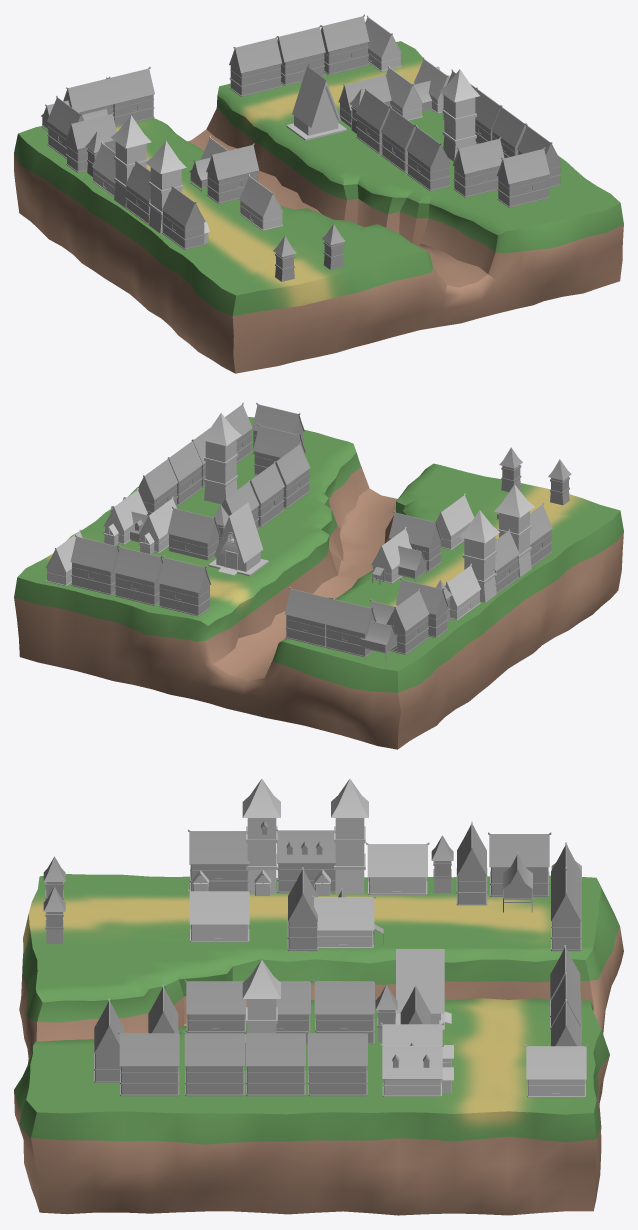
File: stage02.fbx
3 renders of one model, top to bottom at view 1: azimuth 30°, elevation 25°; view 2: azimuth 150°, elevation 25°; view 3: azimuth 270°, elevation 25°, orthographic. The views are drawn at different scales.
Parts seen in each view (by area): view 1: pPlane1, Pivot005, pCube25, pCube29, pCube6, pCube24, pCube31, pCube51, pCube30, pCube32, pCube28, pCube54 (+19 smaller); view 2: pPlane1, Pivot005, pCube6, pCube29, pCube30, pCube31, pCube33, pCube36, pCube17, pCube32, pCube34, pCube53 (+22 smaller); view 3: pPlane1, pCube26, pCube27, pCube66, pCube9, pCube36, pCube54, pCube65, pCube56, pCube46, pCube28, pCube43 (+24 smaller).
Boxes of the visible parts, <box> form: pPlane1: <box>14,41,623,373</box>; Pivot005: <box>286,66,346,140</box>; pCube25: <box>497,147,549,207</box>; pCube29: <box>229,36,282,96</box>; pCube6: <box>439,69,479,161</box>; pCube24: <box>452,137,504,197</box>; pCube31: <box>321,14,369,74</box>; pCube51: <box>206,143,259,203</box>; pCube30: <box>277,25,325,85</box>; pCube32: <box>106,67,154,126</box>; pCube28: <box>406,125,450,191</box>; pCube54: <box>162,186,205,249</box>; pPlane1: <box>14,417,623,749</box>; Pivot005: <box>208,502,269,576</box>; pCube6: <box>201,413,241,504</box>; pCube29: <box>158,555,211,616</box>; pCube30: <box>114,545,162,605</box>; pCube31: <box>70,534,118,595</box>; pCube33: <box>325,597,376,657</box>; pCube36: <box>459,510,499,602</box>; pCube17: <box>167,506,220,560</box>; pCube32: <box>285,587,333,647</box>; pCube34: <box>494,484,534,577</box>; pCube53: <box>386,588,429,654</box>; pPlane1: <box>14,874,623,1215</box>; pCube26: <box>118,1031,181,1096</box>; pCube27: <box>183,1031,246,1096</box>; pCube66: <box>306,1031,369,1096</box>; pCube9: <box>244,1031,307,1096</box>; pCube36: <box>331,779,368,894</box>; pCube54: <box>188,829,249,891</box>; pCube65: <box>313,980,376,1044</box>; pCube56: <box>188,889,251,942</box>; pCube46: <box>524,1044,587,1097</box>; pCube28: <box>184,980,246,1043</box>; pCube43: <box>366,842,429,894</box>.
Size of the model in its own units: 3126 by 1205 by 3190.
